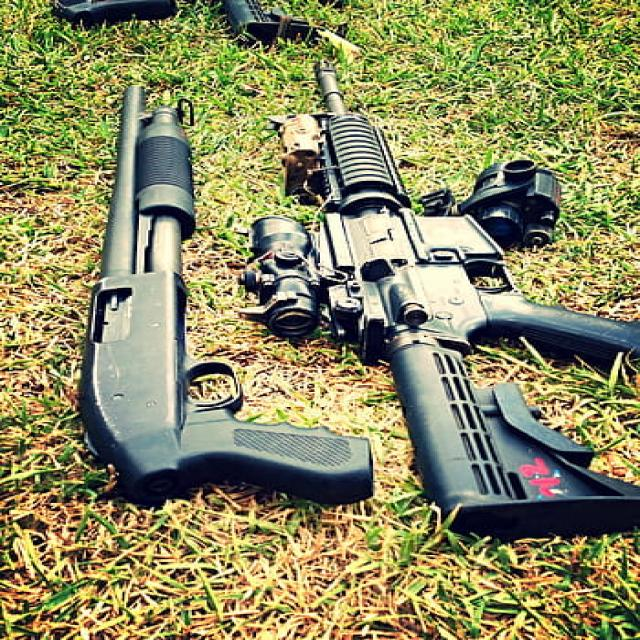gun: (236, 50, 640, 555), (90, 78, 370, 500)
